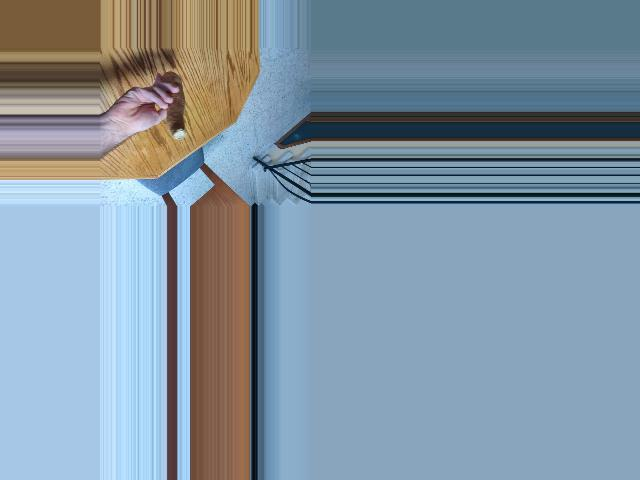sweet_potato: (158, 72, 188, 141)
